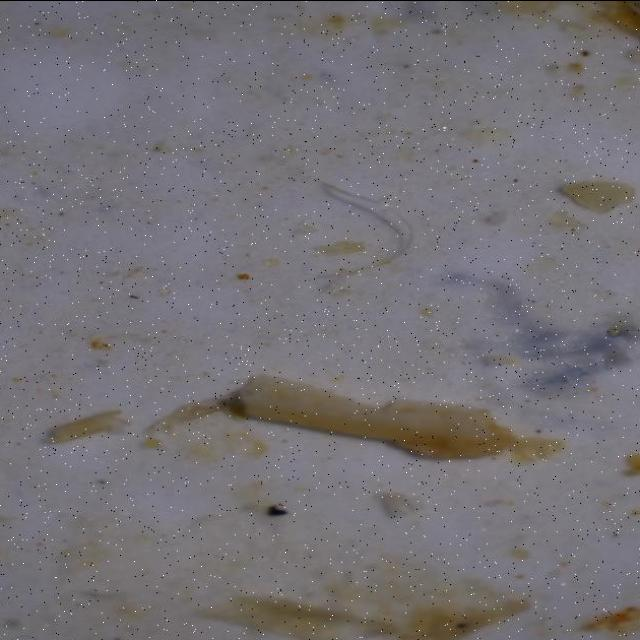Fibre: (306, 178, 416, 290)
